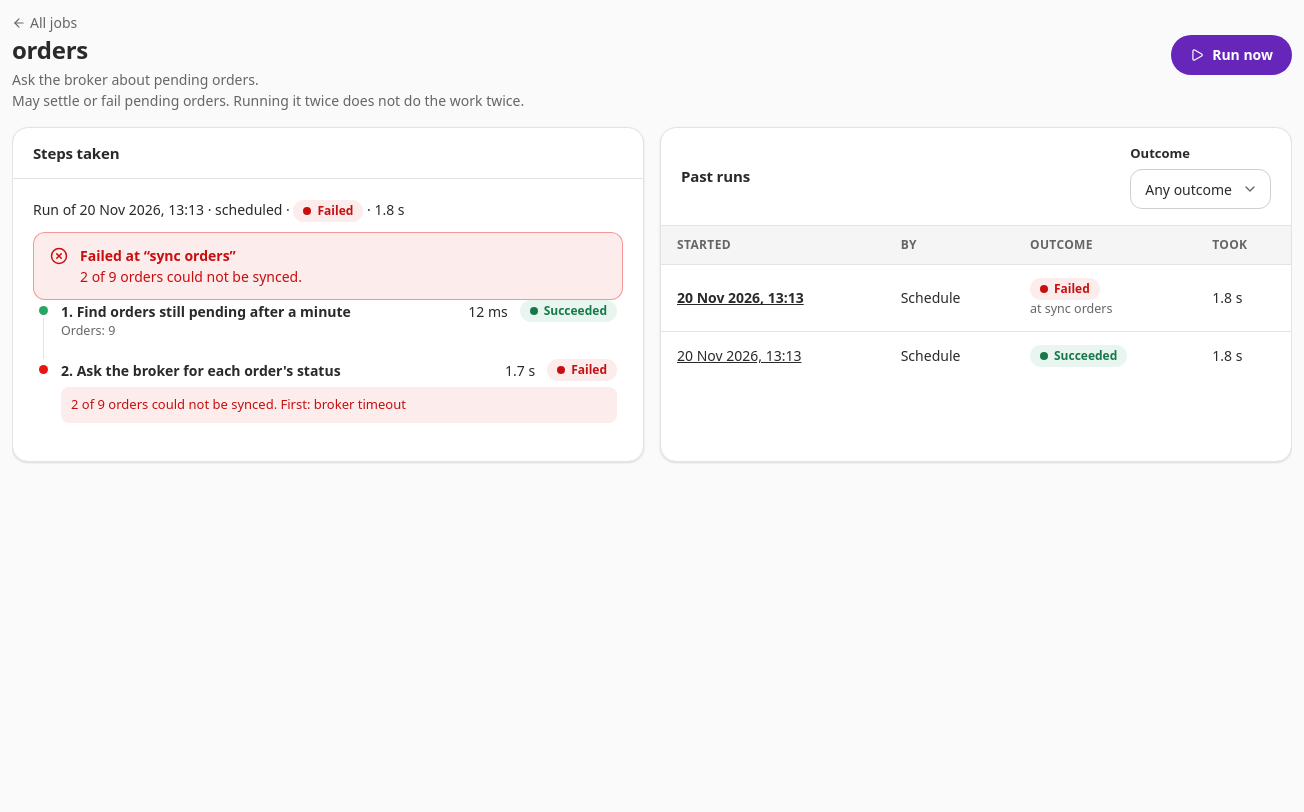
Test: job screen › runs the job from this screen
Click the button "Run now" at [1232, 54], box left=1171, top=34, right=1292, bottom=74
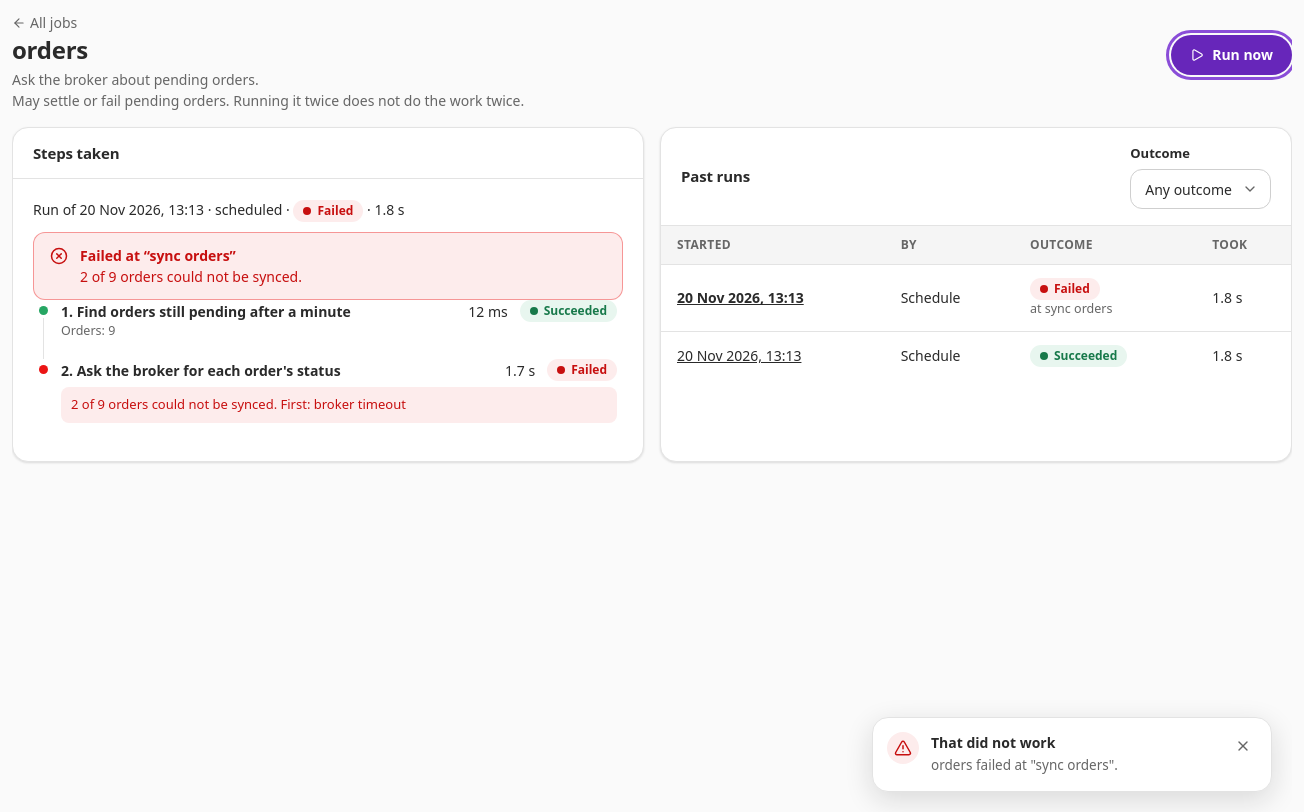
expect the text "orders failed at \"sync orders\"." is shown: met, box left=931, top=756, right=1118, bottom=774
